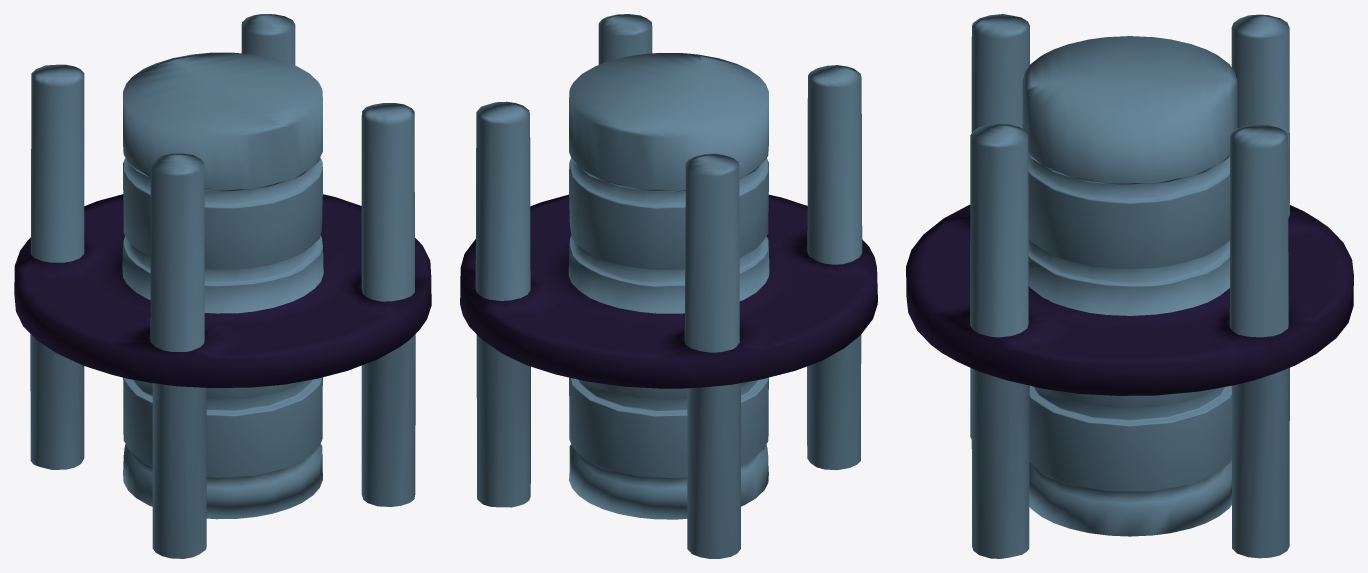
Rendered from Lighthouse_ThirdFloor_RAI.fbx.
The picture shows the model from 3 angles, left to right: view 1: azimuth 30°, elevation 25°; view 2: azimuth 150°, elevation 25°; view 3: azimuth 270°, elevation 25°; orthographic projection. The views are drawn at different scales.
Parts seen in each view (by area): view 1: RetopoGroup1; view 2: RetopoGroup1; view 3: RetopoGroup1.
Part boxes in pixels (x1,y1,x2,y2): RetopoGroup1: (14,14,431,558); RetopoGroup1: (460,14,877,558); RetopoGroup1: (906,14,1353,558).
Bounding box in the file's own units: 402 × 408 × 402.
